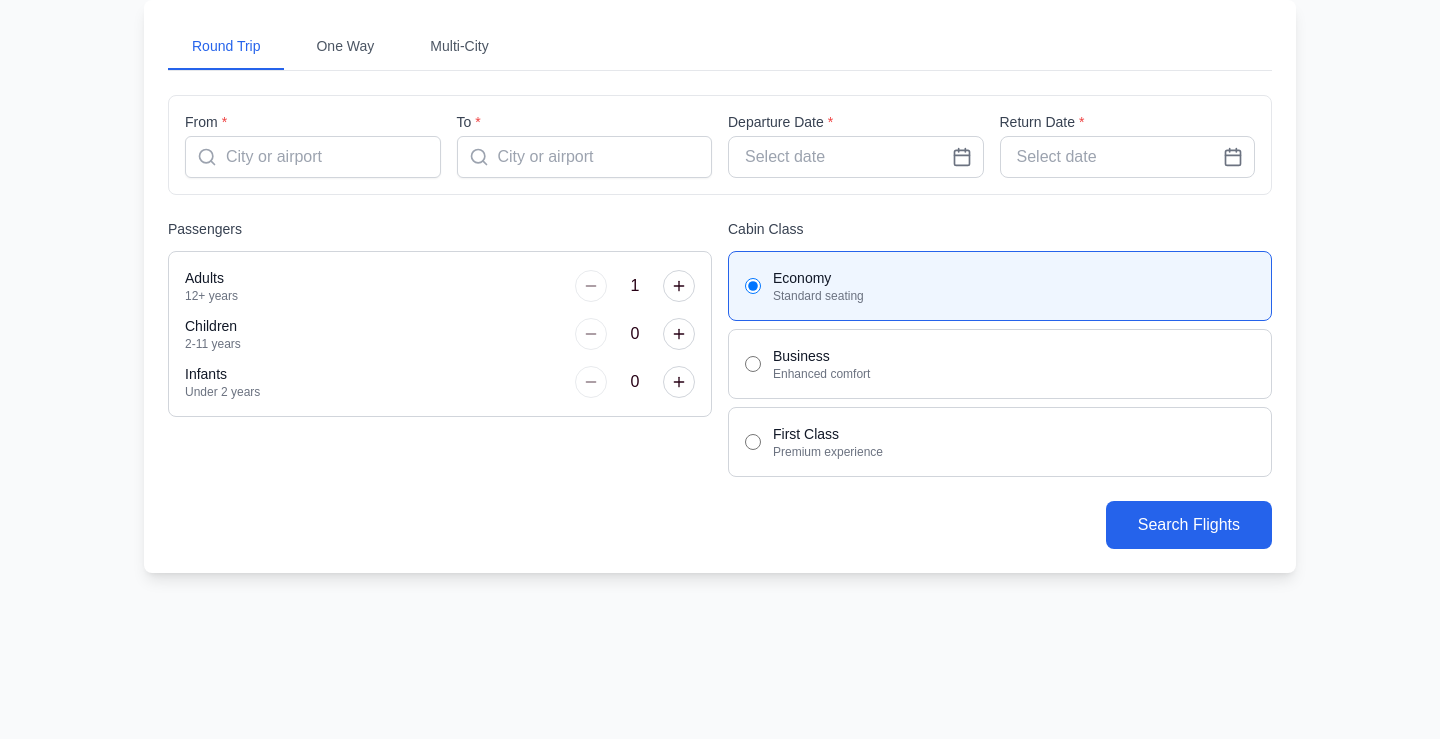
Test: Search Component › Multi-City Segments › allows removing flight segments
The image size is (1440, 739).
Click the button "Multi-City": (459, 47) 406,24 -> 513,70
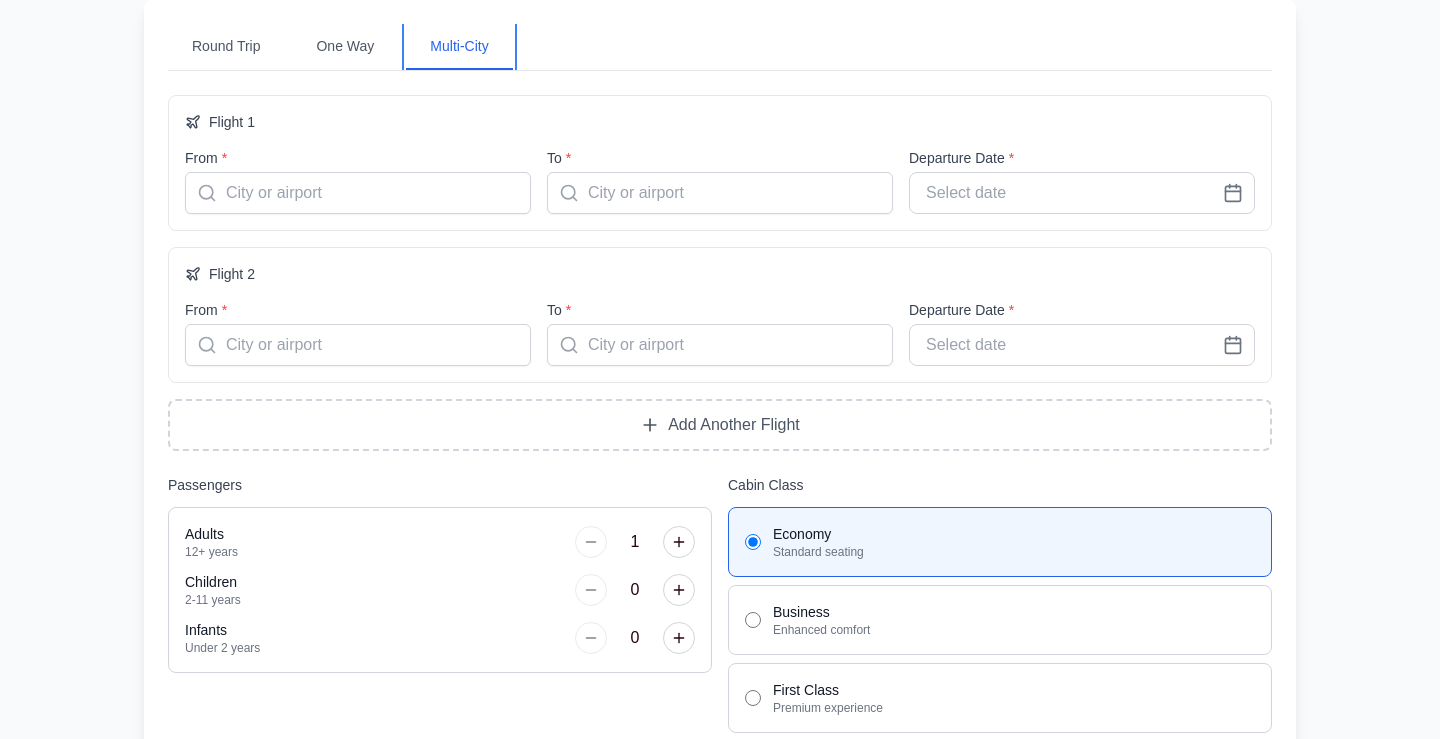
Click the button "Add Another Flight": (720, 425) 168,399 -> 1272,451
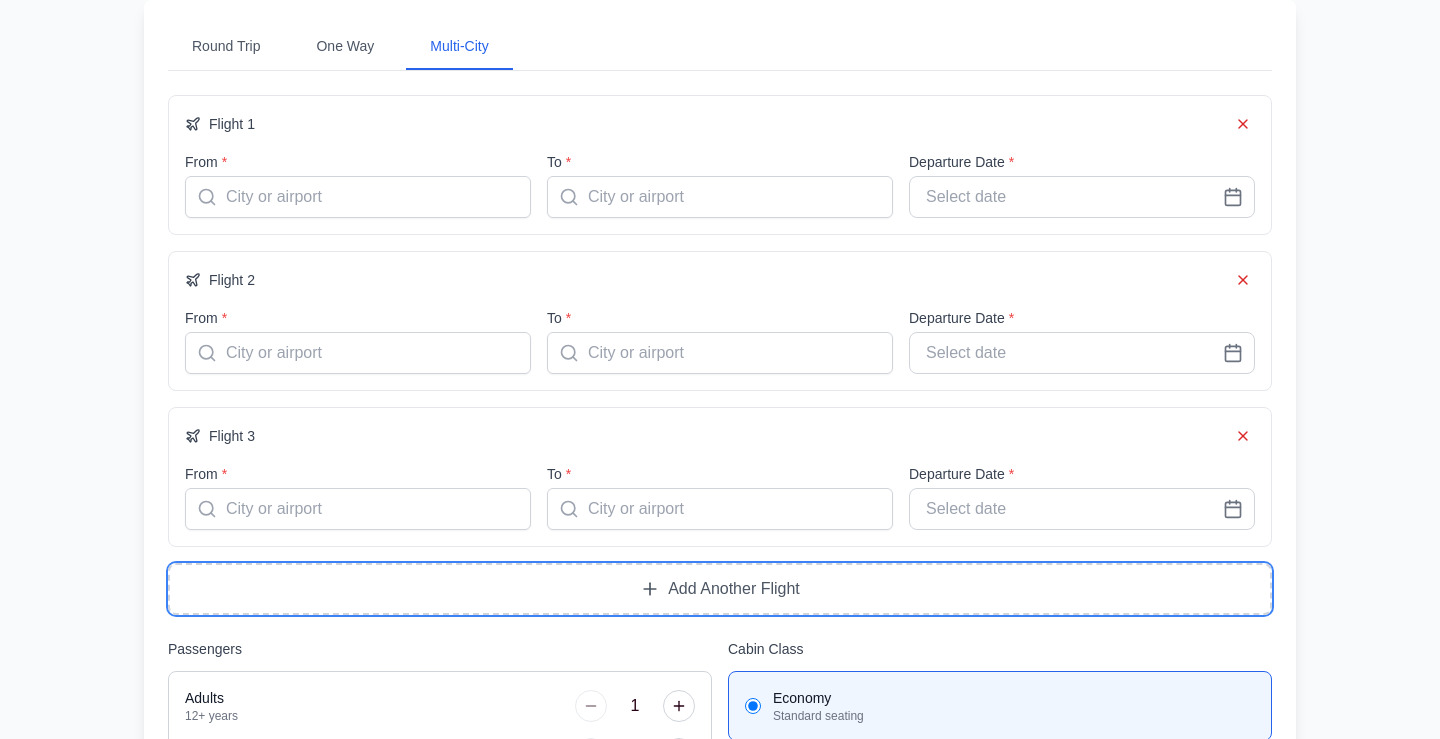
Expected: the heading "Flight 3" is shown, 185,426 -> 255,446
Remove the third flight
Click the button named "Remove flight 3": (1243, 436) 1231,424 -> 1255,448
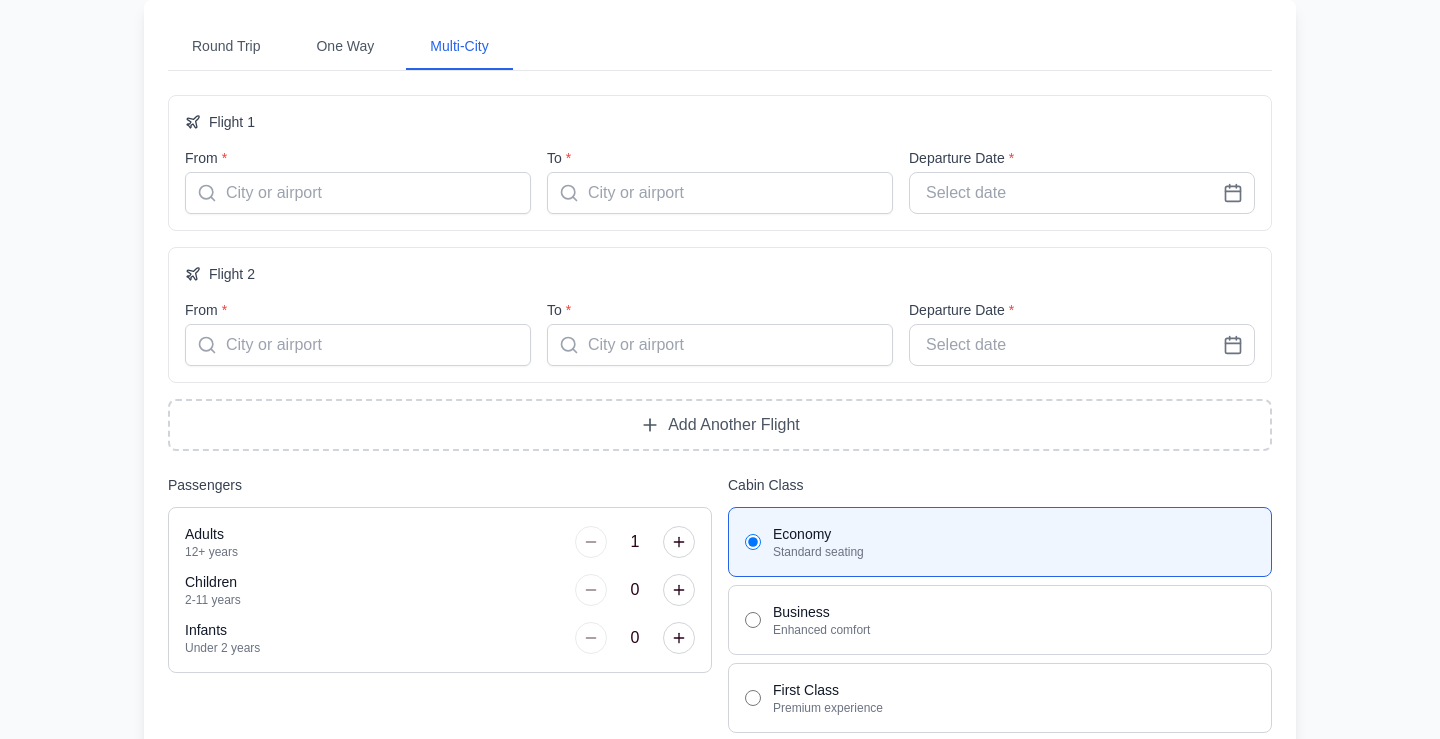
Expected: the heading "Flight 3" is gone
